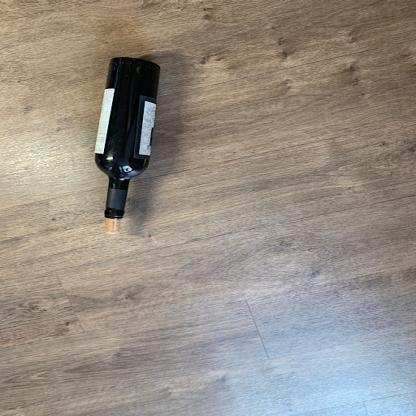trash: (91, 57, 162, 221)
